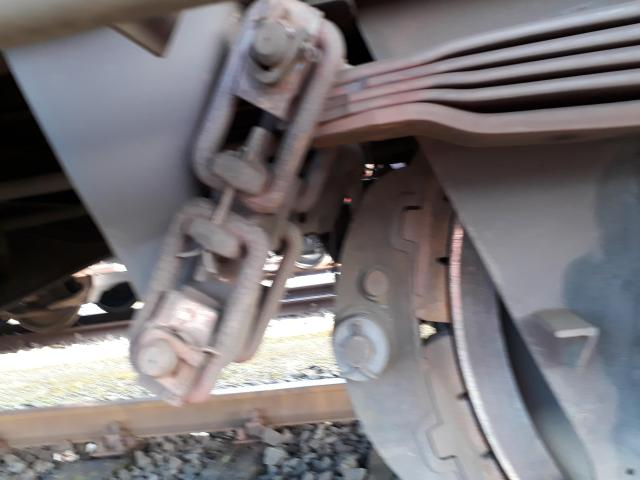blattfederww: (257, 47, 640, 144)
